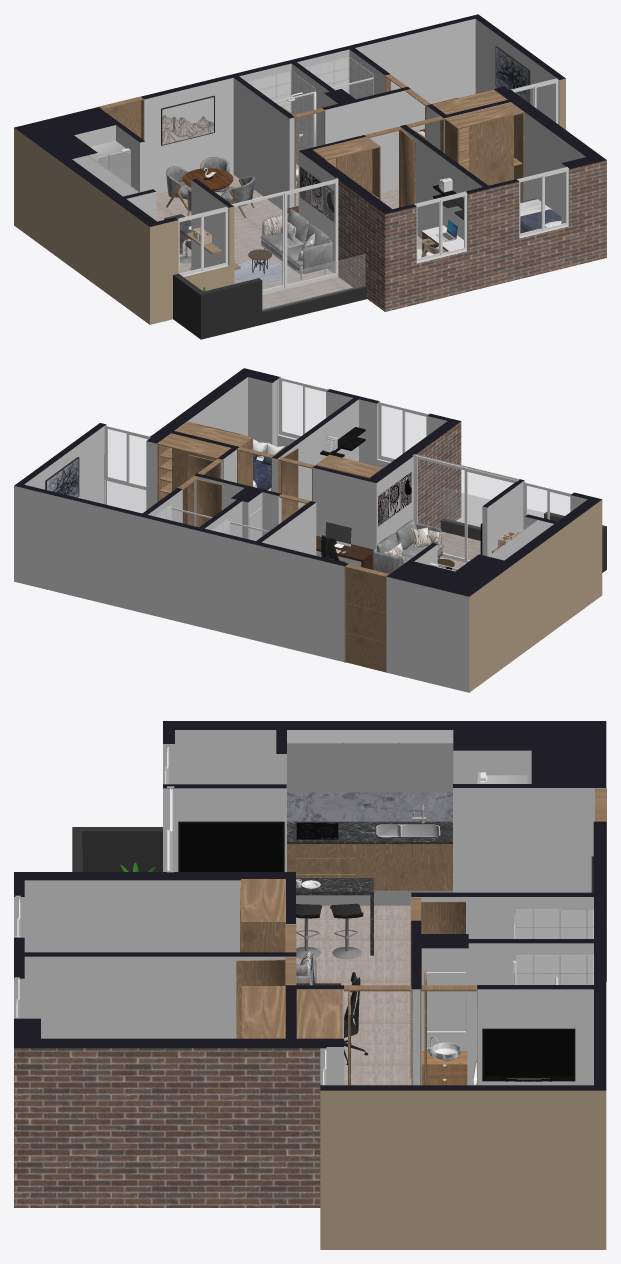
Rendered from demo-cupula-constructora.glb.
3 views of the same model, one above another, from view 1: azimuth 30°, elevation 25°; view 2: azimuth 150°, elevation 25°; view 3: azimuth 270°, elevation 25° (orthographic). The views are drawn at different scales.
Visible parts, largest first — view 1: Cobija_4.002, Paredes_primitive2, Paredes.001, Paredes_primitive4, Paredes_primitive1, Paredes_primitive3, Piso, Wardrobe_primitive0, Window.L.003_primitive0, Box.008, Paredes.003, Puerta_3.001 (+14 smaller); view 2: Cobija_4.002, Paredes_primitive4, Paredes.001, Paredes_primitive1, Puerta_3.001, Wardrobe_primitive0, Paredes_primitive2, Window.L.003_primitive0, Soderhamn, Cube.004, Painting_primitive1, Box.008 (+9 smaller); view 3: Cobija_4.002, Paredes_primitive2, Paredes_primitive4, Paredes_primitive1, Piso, Box.011_primitive0, TV.001, Wardrobe_primitive0, Puerta_3.001, Box.008, Paredes.002, Paredes.003 (+9 smaller).
Part boxes in pixels (x1,y1,x2,y2): Cobija_4.002: (74,18,585,276); Paredes_primitive2: (338,160,606,311); Paredes.001: (180,84,565,310); Paredes_primitive4: (14,78,565,324); Paredes_primitive1: (14,14,606,226); Paredes_primitive3: (173,273,367,339); Piso: (156,128,424,309); Wardrobe_primitive0: (312,89,524,201); Window.L.003_primitive0: (178,81,567,292); Box.008: (234,113,513,269); Paredes.003: (247,57,373,164); Puerta_3.001: (98,74,457,254); Cobija_4.002: (14,377,587,692); Paredes_primitive4: (104,455,602,692); Paredes.001: (107,382,569,559); Paredes_primitive1: (14,368,601,596); Puerta_3.001: (178,445,519,672); Wardrobe_primitive0: (157,421,382,501); Paredes_primitive2: (414,421,461,528); Window.L.003_primitive0: (105,379,570,562); Soderhamn: (372,519,443,573); Cube.004: (104,377,571,561); Painting_primitive1: (378,472,411,526); Box.008: (172,424,240,524); Cobija_4.002: (14,730,605,1085); Paredes_primitive2: (14,1048,320,1207); Paredes_primitive4: (320,1090,606,1249); Paredes_primitive1: (14,721,606,1090); Piso: (296,905,411,1085); Box.011_primitive0: (287,730,453,905); TV.001: (178,821,575,1081); Wardrobe_primitive0: (241,879,342,1038); Puerta_3.001: (236,788,606,1085); Box.008: (240,844,452,1030); Paredes.002: (287,791,452,821); Paredes.003: (516,909,593,984).
Size of the model in its own units: 11.68 by 2.45 by 7.92.
88 materials, 50 textured.
